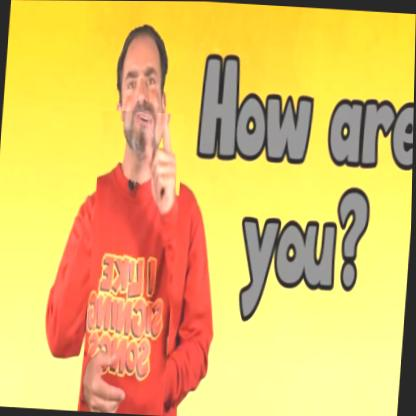HowAreYou: (81, 109, 185, 416)
